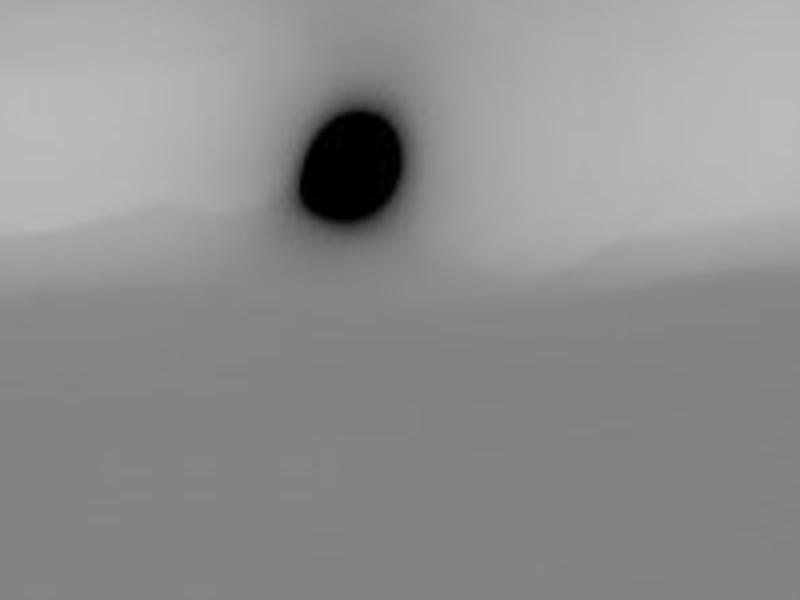defect: (296, 107, 406, 221)
